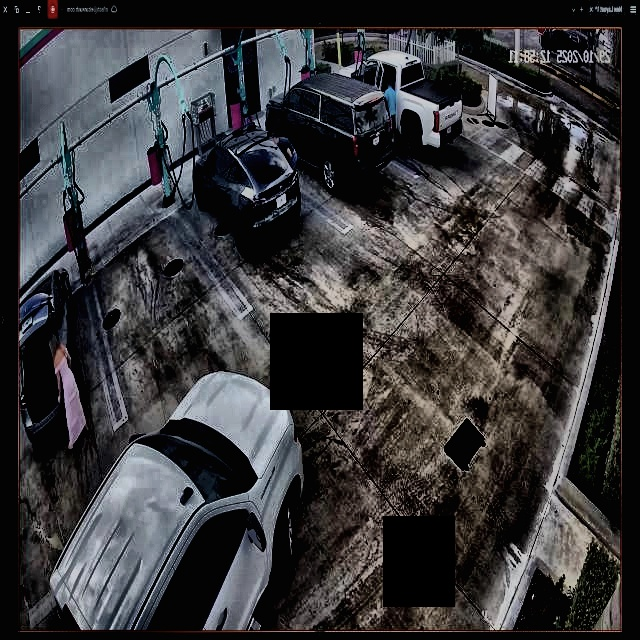Car: (46, 359, 301, 630), (265, 78, 392, 189), (193, 128, 298, 256), (337, 55, 465, 153)
